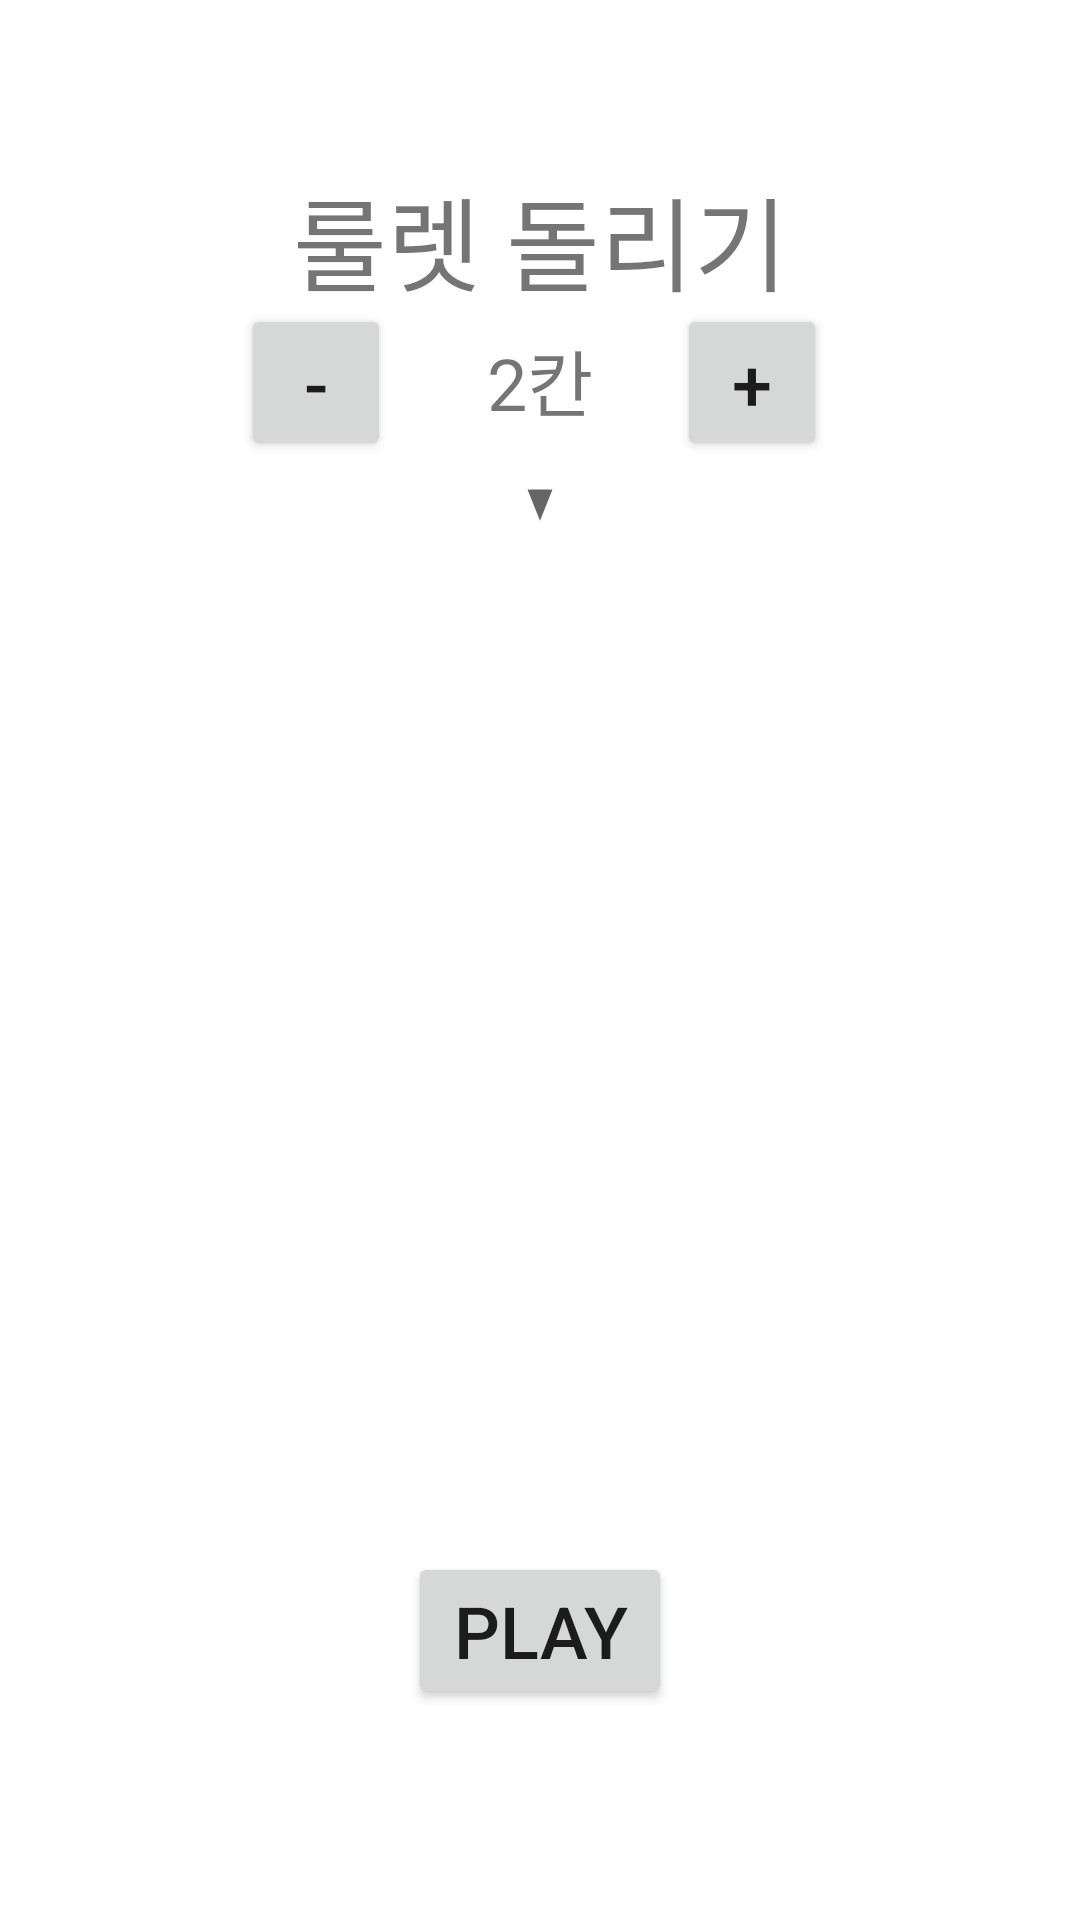

Screen size 1080×1920. Icon name, then its center in pixels as point (x, y):
arrow drop down: point (540, 504)
